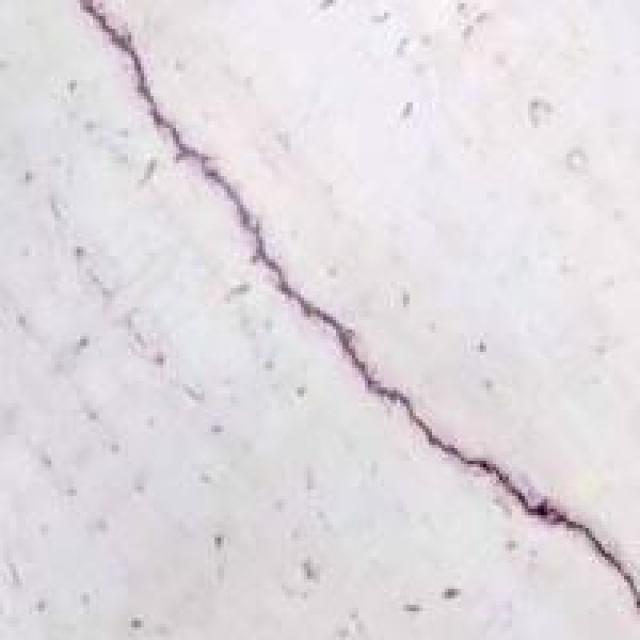crack: (86, 0, 637, 618)
